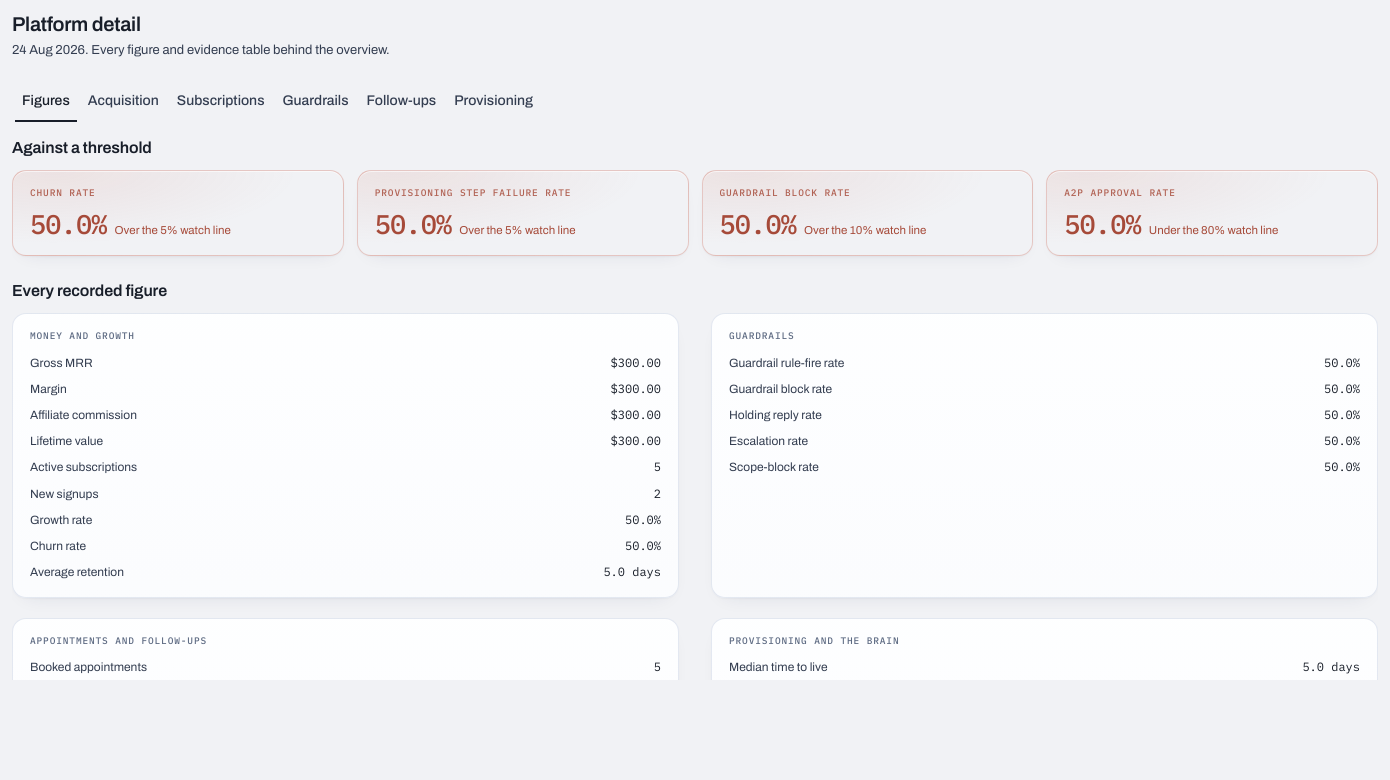
Test: AdminPlatformDetailSurface › reads the booked stage and show rate from evidence and marks unmeasured stages absent
The width and height of the screenshot is (1390, 780).
Click the tab "Acquisition" at coordinates (123, 100), box [81, 88, 166, 113]
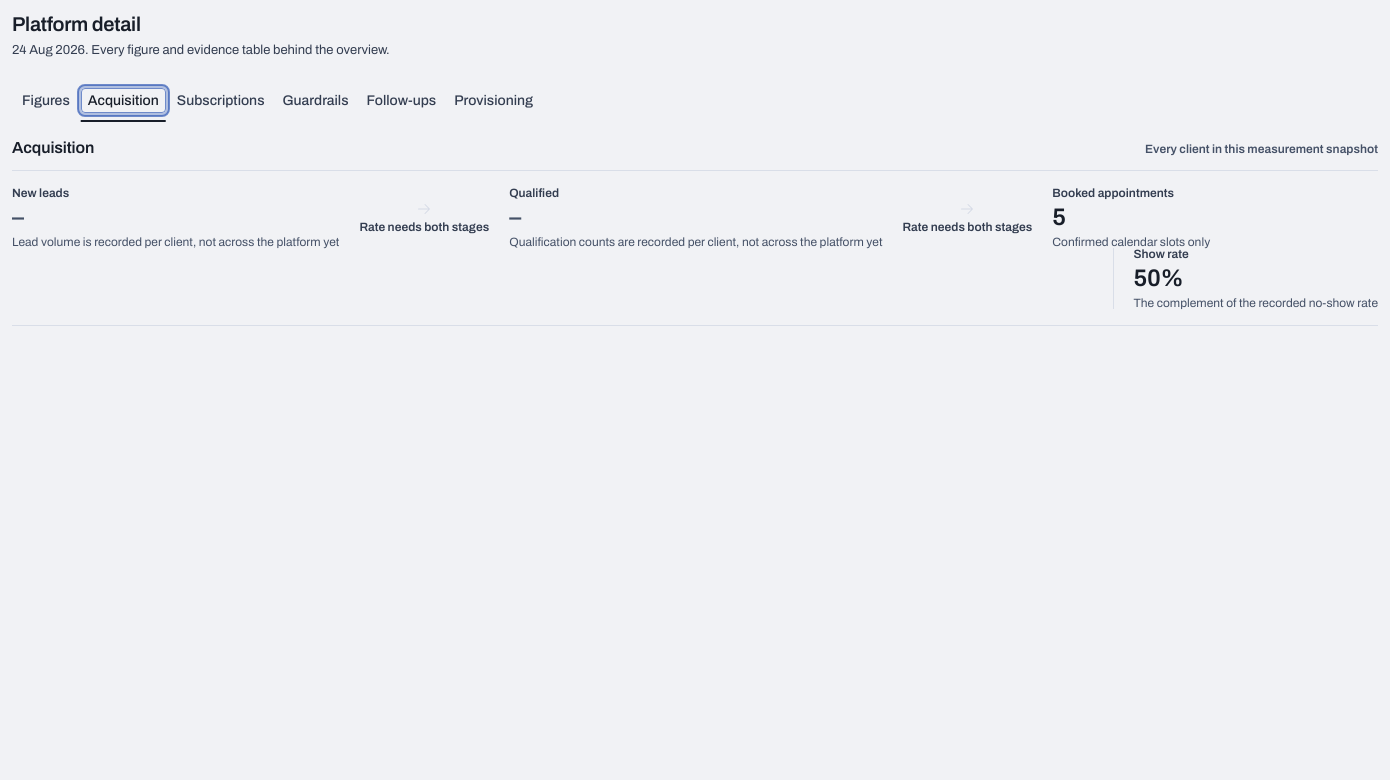
Now the element that starts with "New leads" is shown, box [12, 186, 69, 200]
Now the element that starts with "New leads" shows "Qualified", box [509, 186, 559, 200]
Now the element that starts with "New leads" shows "Booked appointments", box [1052, 186, 1174, 200]
